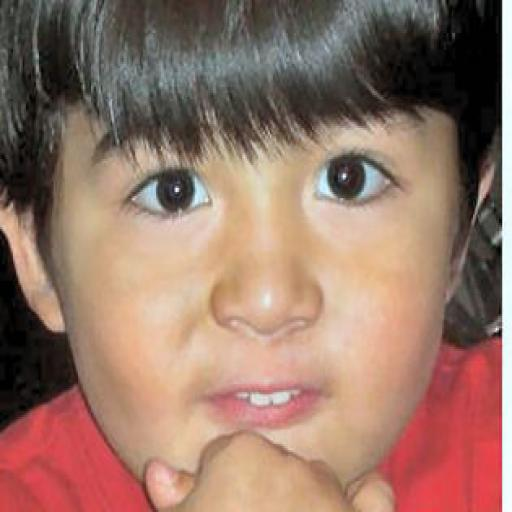Autism: (14, 4, 505, 512)
